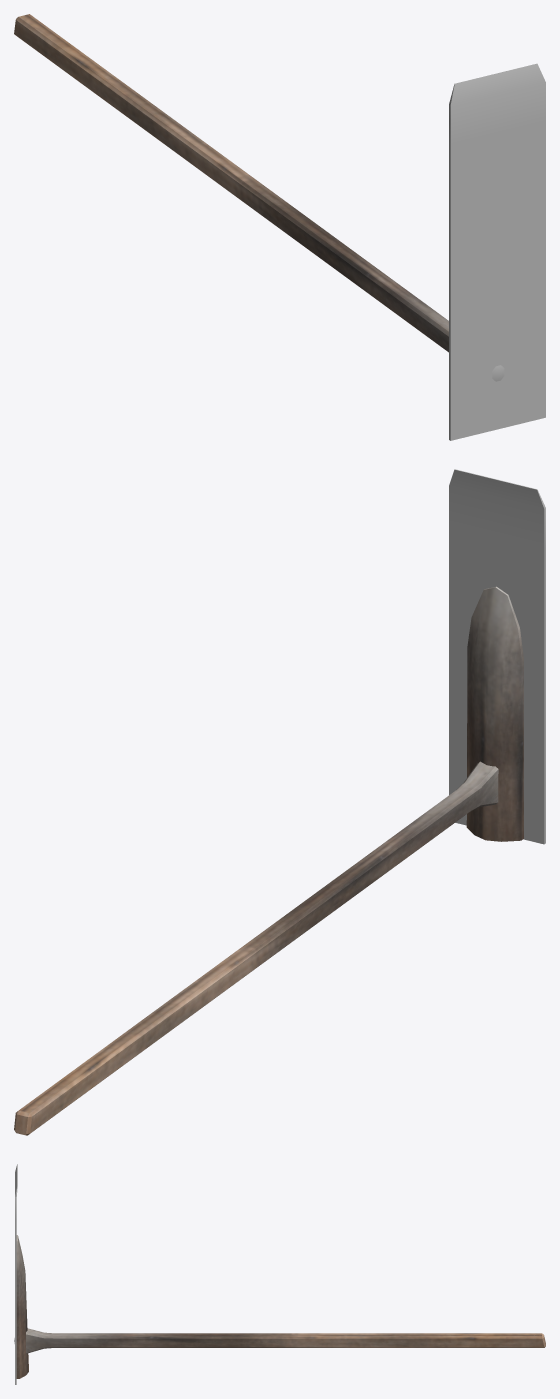
Rendered from jov_farmtools01.fbx.
3 views of the same model, one above another, from view 1: azimuth 30°, elevation 25°; view 2: azimuth 150°, elevation 25°; view 3: azimuth 270°, elevation 25° (orthographic). The views are drawn at different scales.
Parts seen in each view (by area): view 1: jov_farmtools01; view 2: jov_farmtools01; view 3: jov_farmtools01.
Boxes of the visible parts, x1=… form: jov_farmtools01: x1=14, y1=14, x2=545, y2=440; jov_farmtools01: x1=14, y1=469, x2=545, y2=1135; jov_farmtools01: x1=14, y1=1164, x2=545, y2=1384.
Bounding box in the file's own units: 17.14 × 60.75 × 149.
